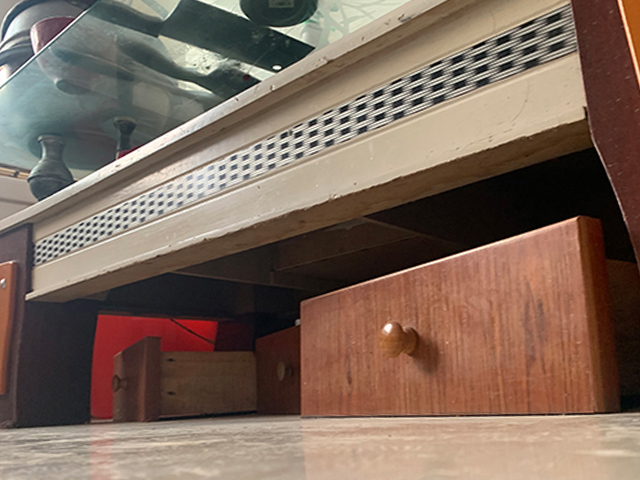table: (1, 1, 638, 430)
